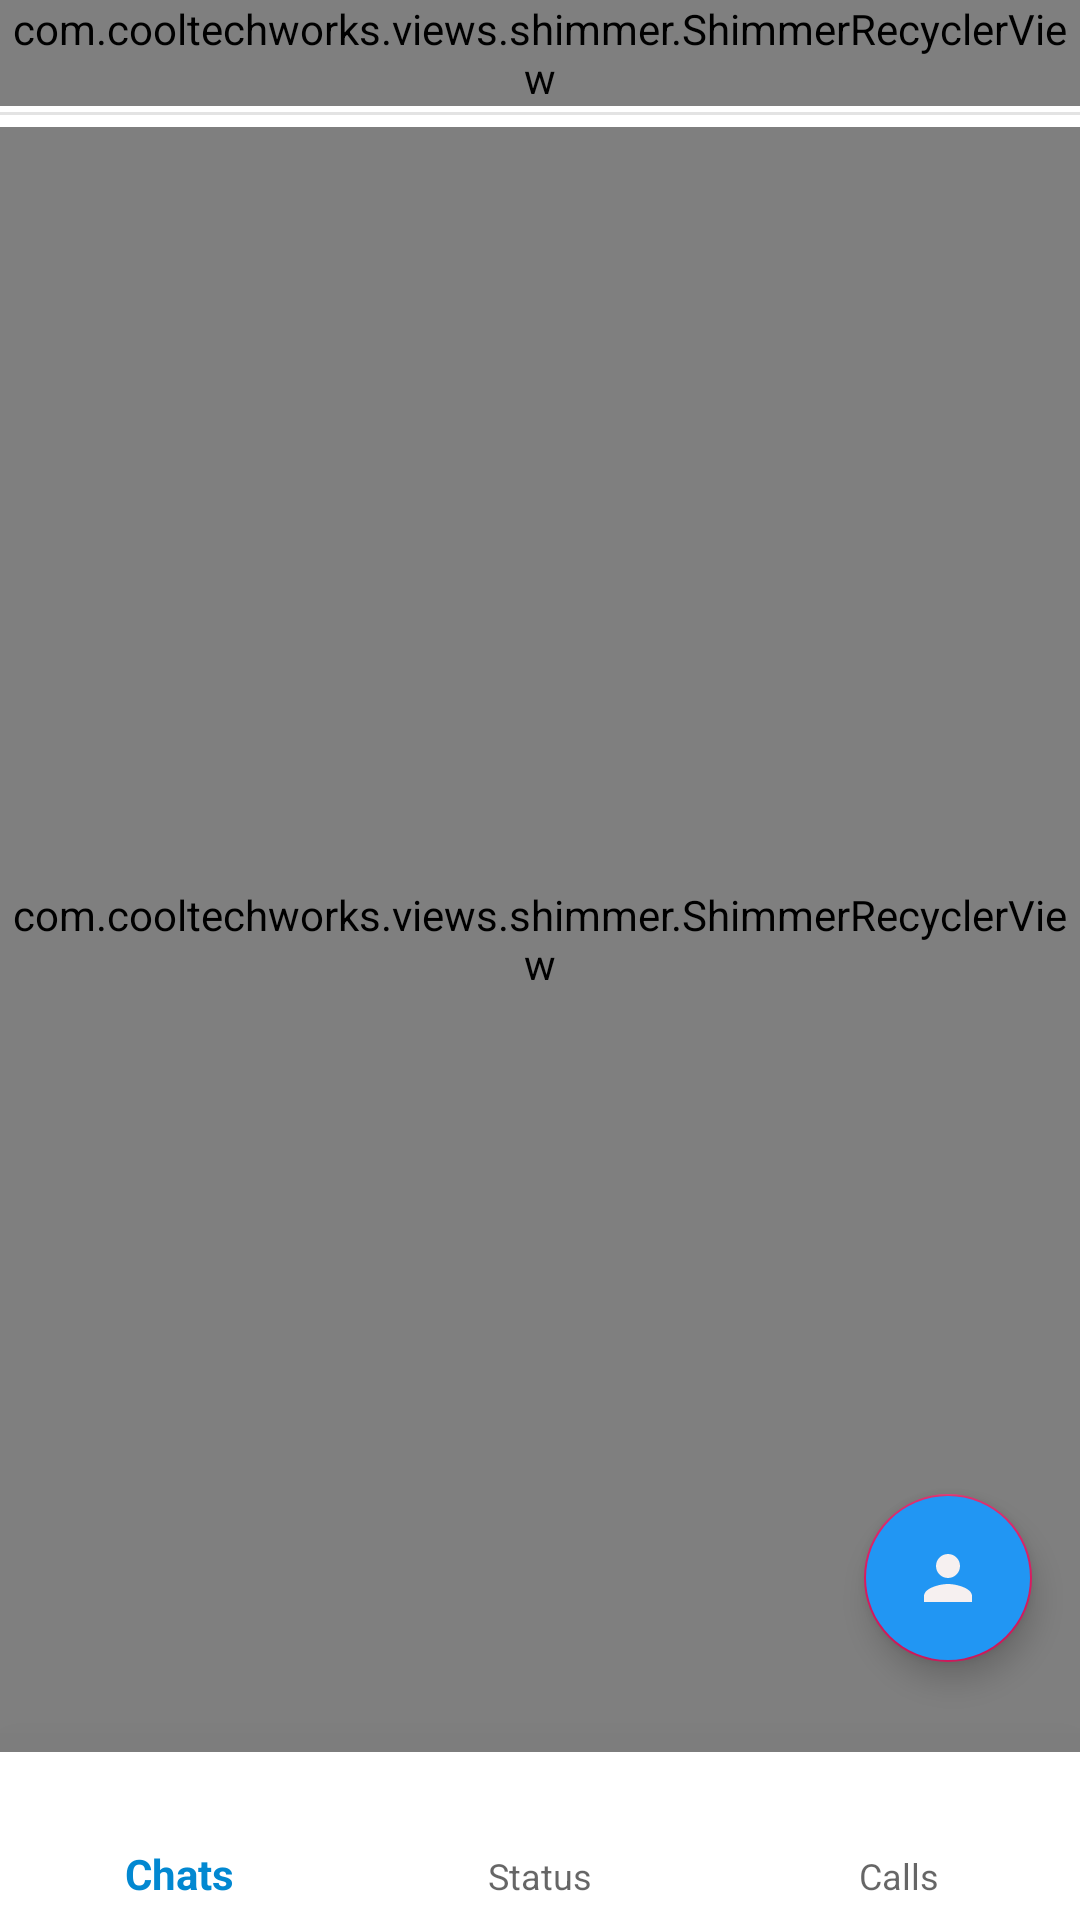

Icons on this 1080px×1920px Android screen, each with the point to tap as point (x, y):
contacts: point (948, 1578)
